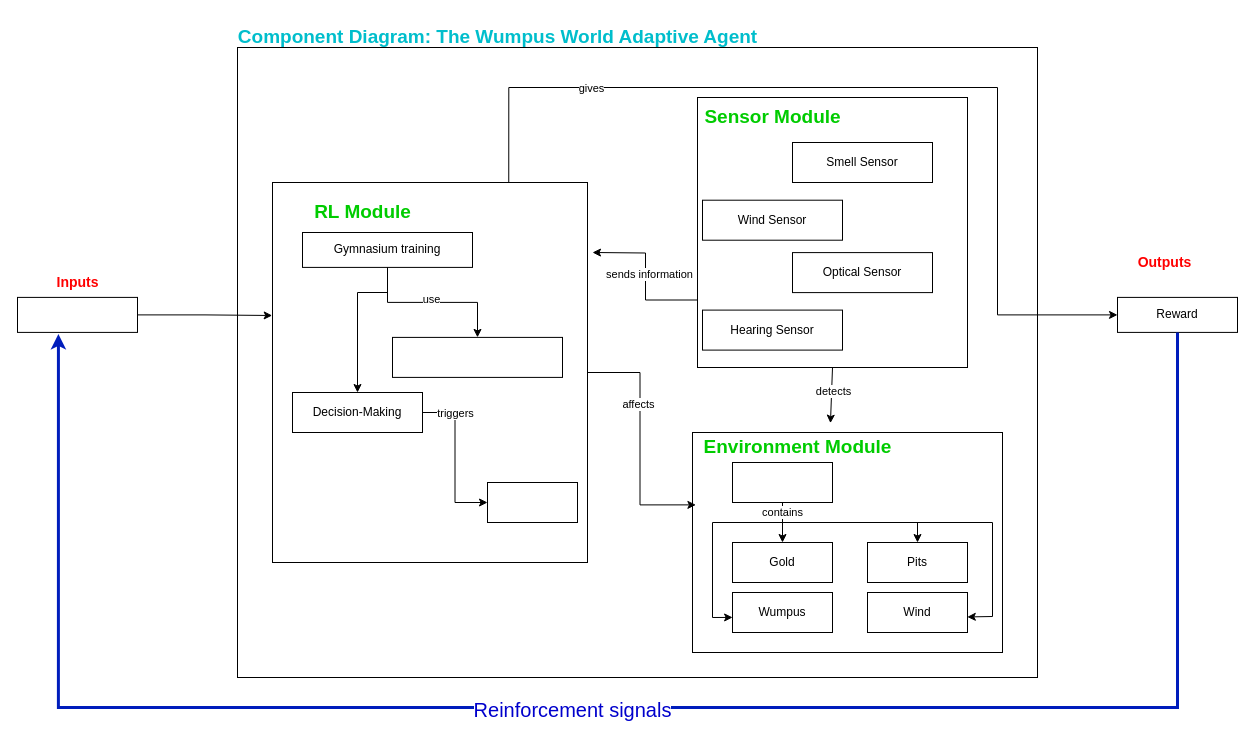
The diagram is 1255 pixels wide and 738 high, and some of its shapes have lost their labels. Here are the shapes that lost their labels. From the top down, the centre of each, then its label:
At [77,314]: "Feedback Inputs".
At [477,356]: "Memory".
At [532,502]: "Action".
At [782,482]: "Grid".
